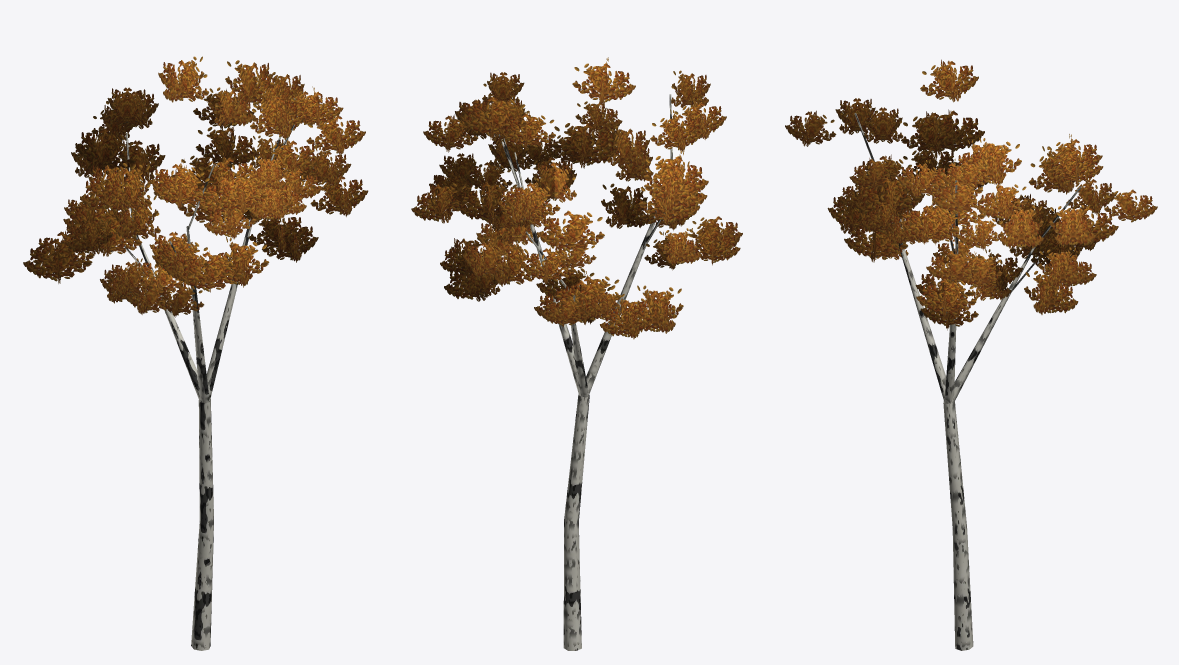
Rendered from birch1_autumn_lod0.fbx.
3 renders of one model, left to right at view 1: azimuth 30°, elevation 25°; view 2: azimuth 150°, elevation 25°; view 3: azimuth 270°, elevation 25°, orthographic. The views are drawn at different scales.
Parts seen in each view (by area): view 1: birch1_autumn_lod0; view 2: birch1_autumn_lod0; view 3: birch1_autumn_lod0.
Boxes of the visible parts, x1,y1,x2,y2 form: birch1_autumn_lod0: (23, 56, 368, 650); birch1_autumn_lod0: (411, 57, 742, 650); birch1_autumn_lod0: (785, 59, 1157, 650).
Bounding box in the file's own units: 7.58 × 14.66 × 8.47.
Materials: 2 (2 with a texture image).
